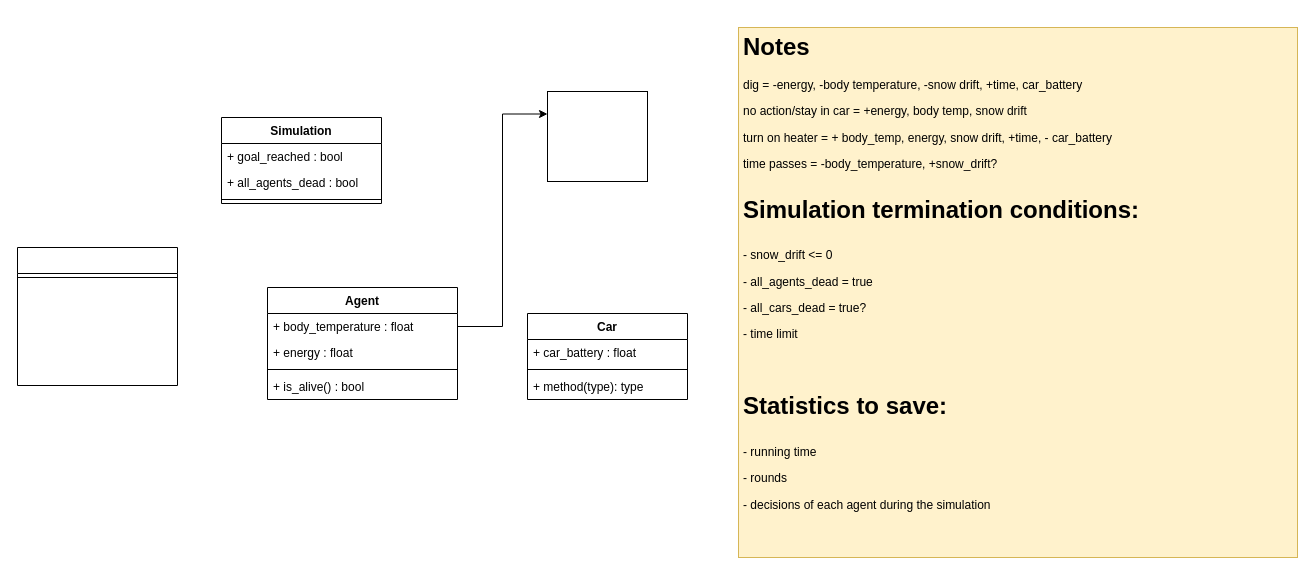
Some shapes in this 1315 by 575 pixel diagram are drawn without their labels. The centre of each missing label's shape, as x and y in pixels:
<<enumeration>> state Dig No action Turn on heater: [597,136]
Environment: [97,316]
